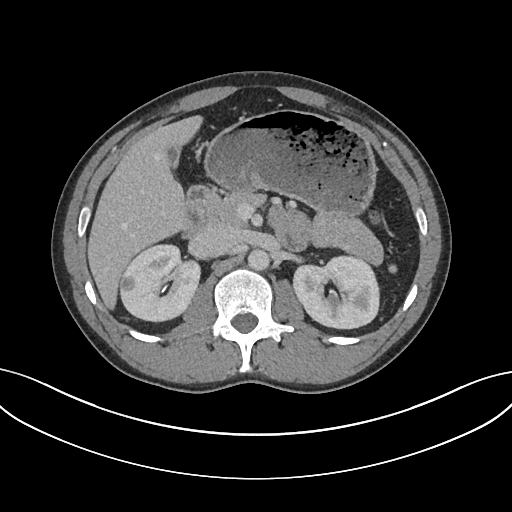Lesion: (119, 275, 139, 296)
